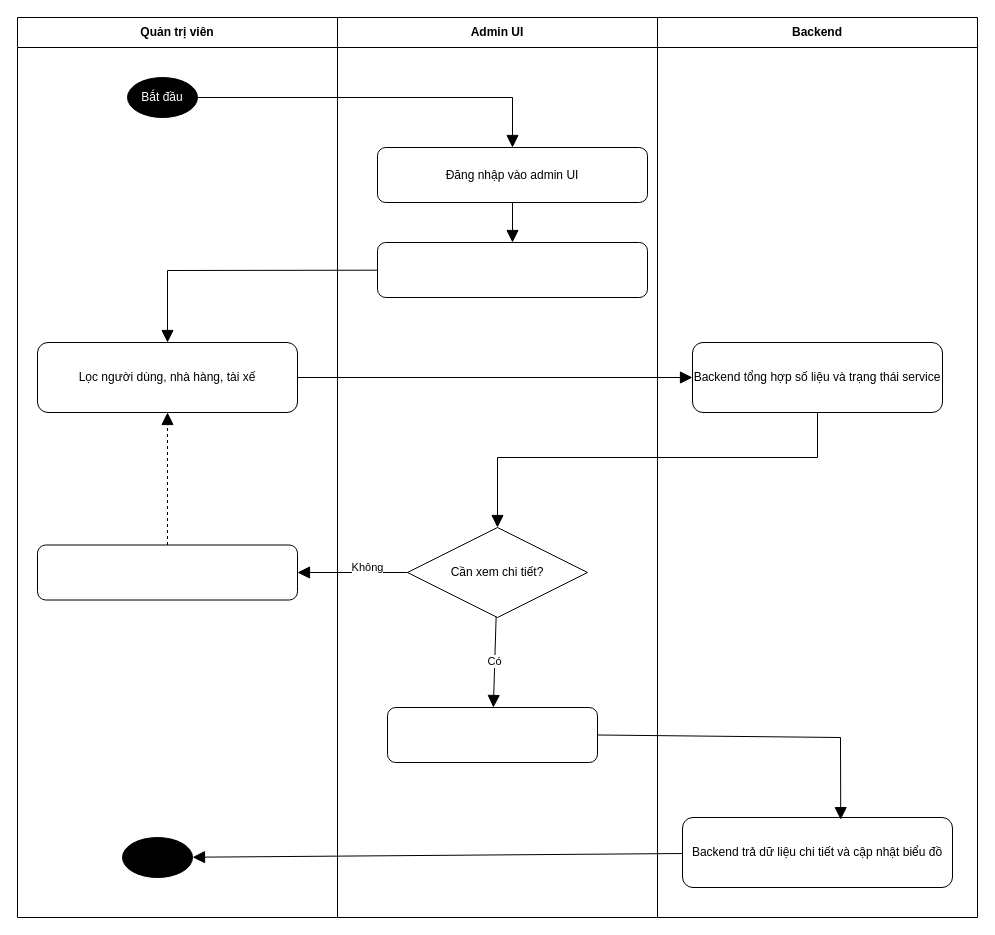
Some shapes in this 995 by 935 pixel diagram are drawn without their labels. The shapes that lost their labels are listed below. From the top down, each one's centre as x and y in pixels, then its label:
At (512,270): "Mở dashboard tổng quan".
At (167,572): "Theo dõi KPI và trạng thái hệ thống".
At (492,734): "Mở màn hình quản lý tương ứng".
At (157,857): "Kết thúc".
